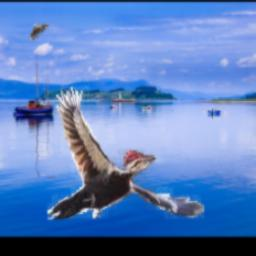Swallow: (29, 23, 49, 40)
Woodpecker: (47, 83, 204, 220)
